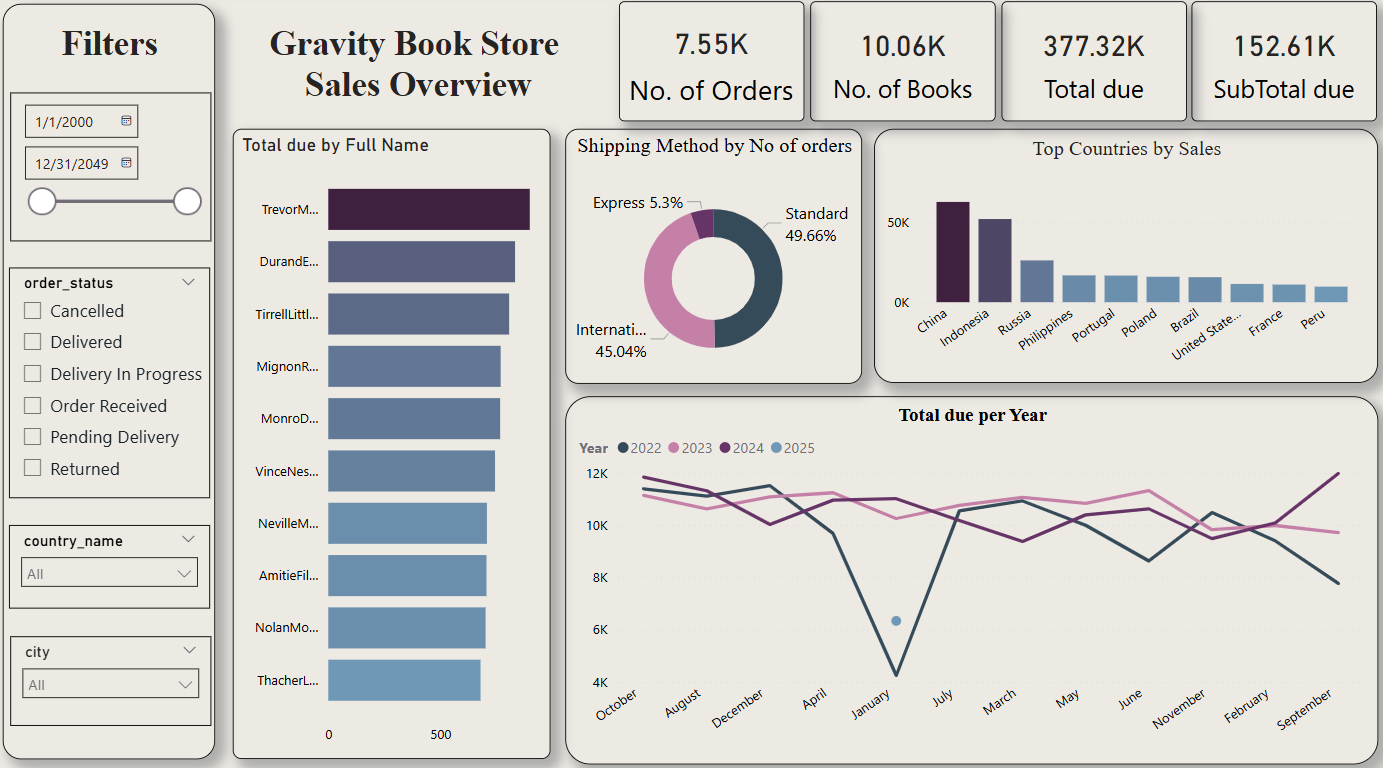

The page's visual inventory and layout, read from the dashboard file:
{"tool":"powerbi","page":{"name":"Sales Performance Overview","canvas":[1280,720],"ordinal":1},"visuals":[{"type":"lineChart","title":"Total due per Year ","fields":{"Category":["DimDate.MonthName"],"Y":["_measures.Total due"],"Series":["DimDate.Year"]},"box":[525.2,368.8,746.9,338.4],"z":0},{"type":"donutChart","title":"Shipping Method by No of orders ","fields":{"Y":["_measures.No. of Orders"],"Category":["DimShipping.method_name"]},"box":[525.2,122.5,273.1,234.6],"z":1000},{"type":"shape","box":[8.2,8.2,194.9,694.4],"z":2000},{"type":"clusteredColumnChart","title":"Top Countries by Sales","fields":{"Category":["DimCust.country_name"],"Y":["_measures.Total due"]},"box":[808.8,122.5,463.3,233.4],"z":3000},{"type":"clusteredBarChart","fields":{"Category":["DimCust.Full Name"],"Y":["_measures.Total due"]},"box":[219.1,122.7,292.2,578.8],"z":4000},{"type":"textbox","box":[30.3,20.7,153,68.9],"z":5000},{"type":"slicer","fields":{"Values":["DimDate.Date"]},"box":[15.2,89.6,184.7,136.4],"z":6000},{"type":"slicer","fields":{"Values":["DimStatus.order_status"]},"box":[13.8,250.8,184.7,212.2],"z":7000},{"type":"slicer","fields":{"Values":["DimCust.country_name"]},"box":[13.8,486.5,184.7,77.2],"z":8000},{"type":"slicer","fields":{"Values":["DimCust.city"]},"box":[15.2,589.8,184.7,82.7],"z":9000},{"type":"textbox","box":[205.4,21,368.9,159.3],"z":10000},{"type":"card","fields":{"Values":["_measures.Total due"]},"box":[925.4,6.1,170,110.3],"z":11000},{"type":"card","fields":{"Values":["_measures.SubTotal due"]},"box":[1100.8,6.1,170,110.3],"z":12000},{"type":"card","fields":{"Values":["_measures.No. of Orders"]},"box":[574.4,6.1,170,110.3],"z":13000},{"type":"card","fields":{"Values":["_measures.No. of Books"]},"box":[749.9,6.1,170,110.3],"z":14000}]}

Visuals, with their boxes in screenshot pixels (x1, y1, x2, y2), scaled from the page's 1280x720 canvas onto the 1383x768 screenshot:
"Total due per Year " lineChart: (x1=567, y1=393, x2=1374, y2=754)
"Shipping Method by No of orders " donutChart: (x1=567, y1=131, x2=863, y2=381)
shape: (x1=9, y1=9, x2=219, y2=749)
"Top Countries by Sales" clusteredColumnChart: (x1=874, y1=131, x2=1374, y2=380)
clusteredBarChart - DimCust.Full Name x _measures.Total due: (x1=237, y1=131, x2=552, y2=748)
textbox: (x1=33, y1=22, x2=198, y2=96)
slicer - DimDate.Date: (x1=16, y1=96, x2=216, y2=241)
slicer - DimStatus.order_status: (x1=15, y1=268, x2=214, y2=494)
slicer - DimCust.country_name: (x1=15, y1=519, x2=214, y2=601)
slicer - DimCust.city: (x1=16, y1=629, x2=216, y2=717)
textbox: (x1=222, y1=22, x2=621, y2=192)
card - _measures.Total due: (x1=1000, y1=7, x2=1184, y2=124)
card - _measures.SubTotal due: (x1=1189, y1=7, x2=1373, y2=124)
card - _measures.No. of Orders: (x1=621, y1=7, x2=804, y2=124)
card - _measures.No. of Books: (x1=810, y1=7, x2=994, y2=124)
